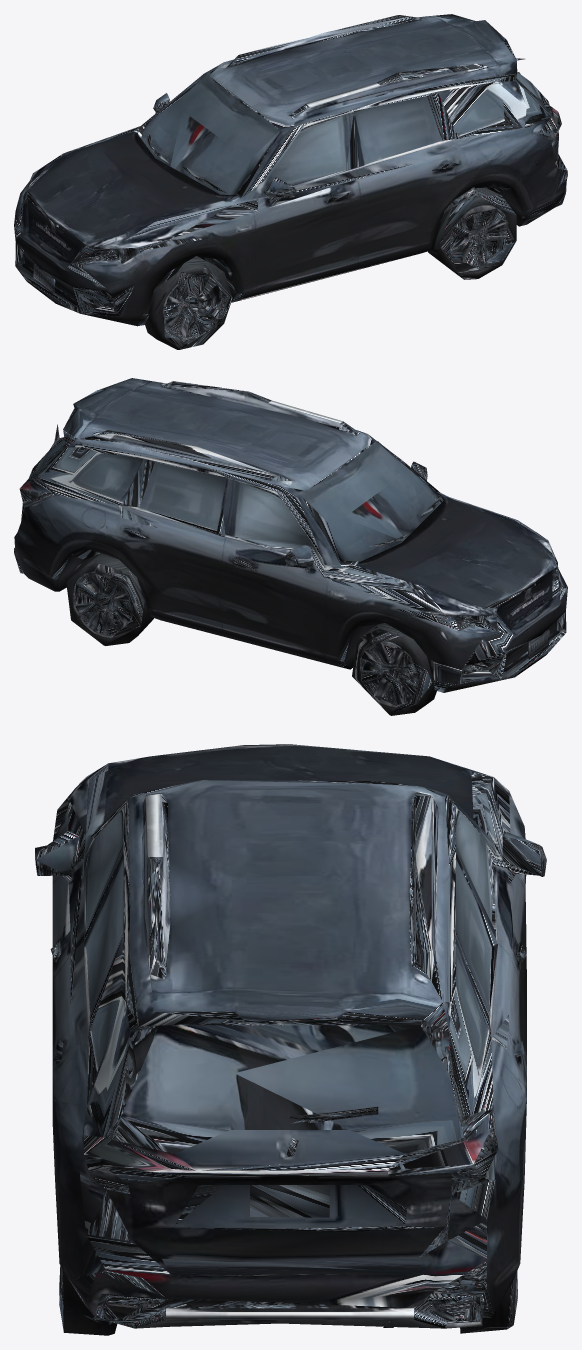
The model's file is suv.glb.
The picture shows the model from 3 angles, top to bottom: view 1: azimuth 30°, elevation 25°; view 2: azimuth 150°, elevation 25°; view 3: azimuth 270°, elevation 25°; orthographic projection. The views are drawn at different scales.
Parts seen in each view (by area): view 1: tripo_node_01a22052-fdba-7ab2-9345-bee3b80fbdf7; view 2: tripo_node_01a22052-fdba-7ab2-9345-bee3b80fbdf7; view 3: tripo_node_01a22052-fdba-7ab2-9345-bee3b80fbdf7.
Boxes of the visible parts, x1,y1,x2,y2 form: tripo_node_01a22052-fdba-7ab2-9345-bee3b80fbdf7: [14, 14, 567, 349]; tripo_node_01a22052-fdba-7ab2-9345-bee3b80fbdf7: [14, 378, 567, 715]; tripo_node_01a22052-fdba-7ab2-9345-bee3b80fbdf7: [35, 744, 546, 1335].
Bounding box in the file's own units: 0.9941 × 0.3985 × 0.4511.
1 material, 1 textured.
